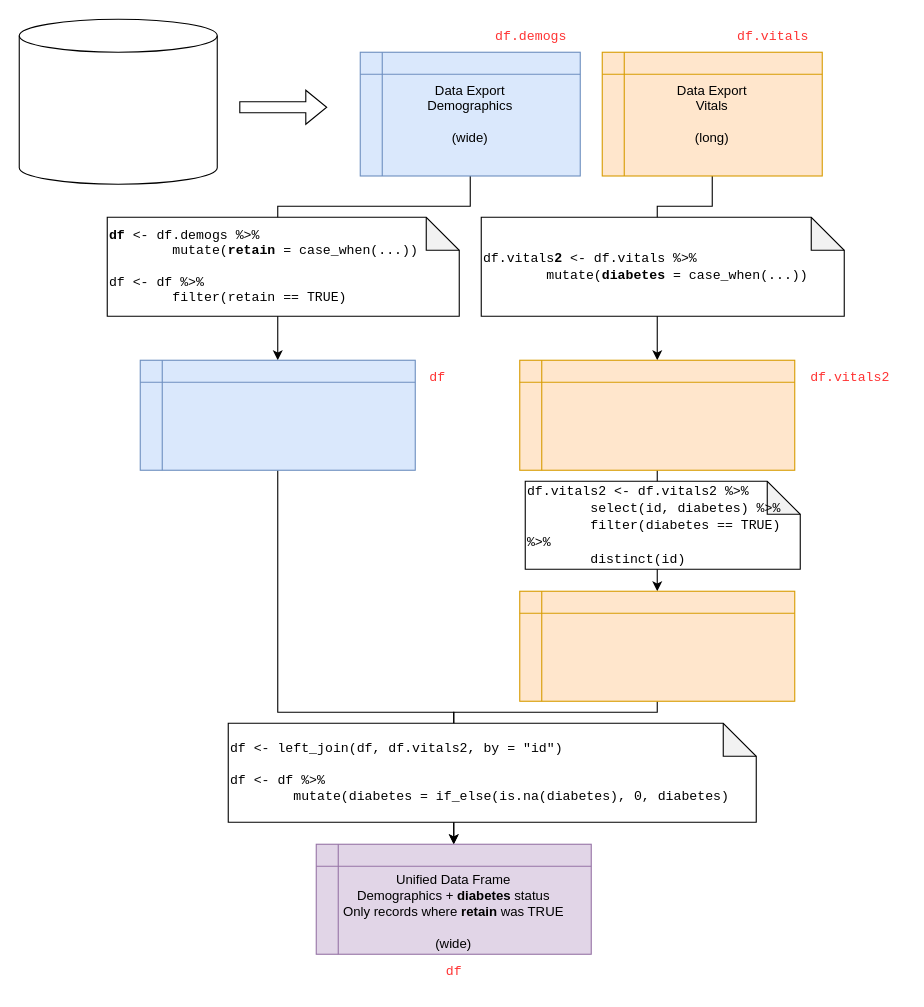
This 924x1007 diagram has some shape labels left out. Each missing label, with the box of its shape:
Modified Data Copy Demographics Only records where retain was TRUE (wide): (139, 359, 415, 470)
Modified Data Copy Vitals Added diabetes (long): (519, 359, 795, 470)
Modified Data Copy Vitals Only records where diabetes was TRUE (wide): (519, 590, 795, 701)
Primary Data Warehouse: (18, 18, 217, 184)
